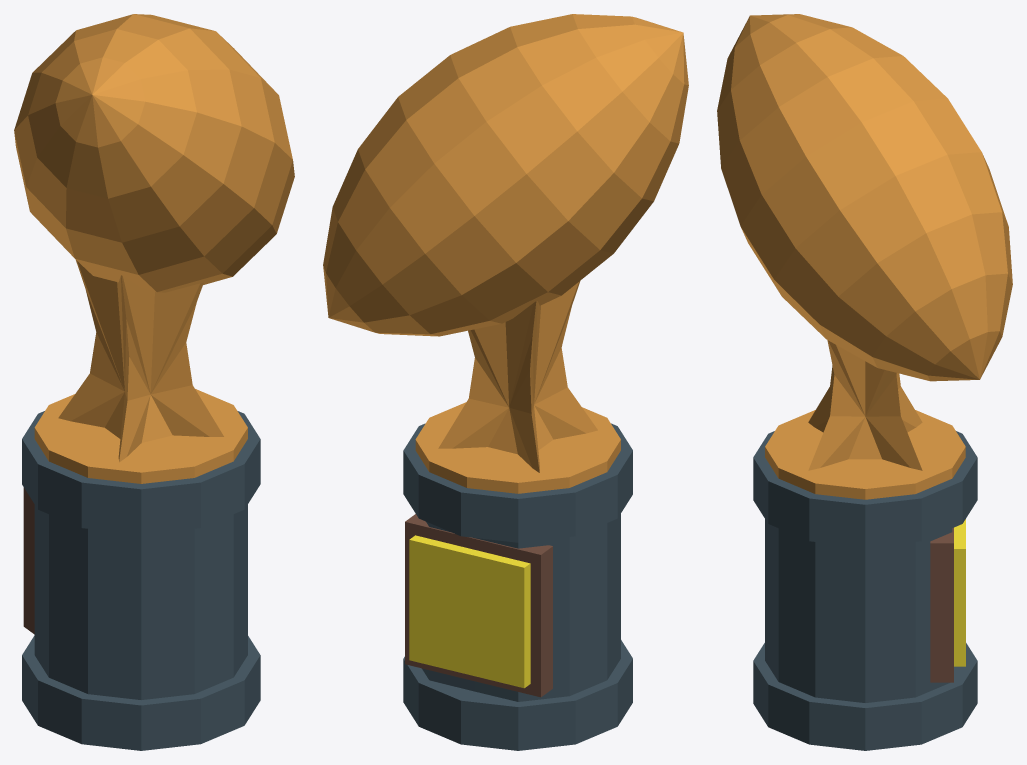
Rendered from sportstrophy.glb.
The picture shows the model from 3 angles, left to right: view 1: azimuth 30°, elevation 25°; view 2: azimuth 150°, elevation 25°; view 3: azimuth 270°, elevation 25°; orthographic projection. The views are drawn at different scales.
Parts seen in each view (by area): view 1: group1404036289, group1148787079, group287719413; view 2: group1404036289, group1148787079, group1230591819, group287719413; view 3: group1404036289, group1148787079, group287719413, group1230591819.
Boxes of the visible parts, box(x1,y1,x2,y2) form: group1404036289: box(14, 14, 294, 483); group1148787079: box(22, 411, 260, 750); group287719413: box(23, 487, 34, 634); group1404036289: box(323, 14, 688, 493); group1148787079: box(403, 423, 632, 750); group1230591819: box(409, 535, 530, 688); group287719413: box(405, 514, 552, 697); group1404036289: box(717, 14, 1012, 499); group1148787079: box(753, 431, 977, 750); group287719413: box(930, 527, 953, 682); group1230591819: box(954, 519, 965, 666).
Bounding box in the file's own units: 0.265 × 0.6117 × 0.2505.
